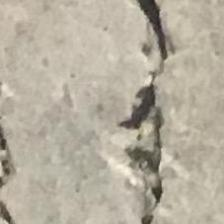Crack: (82, 0, 206, 224)
